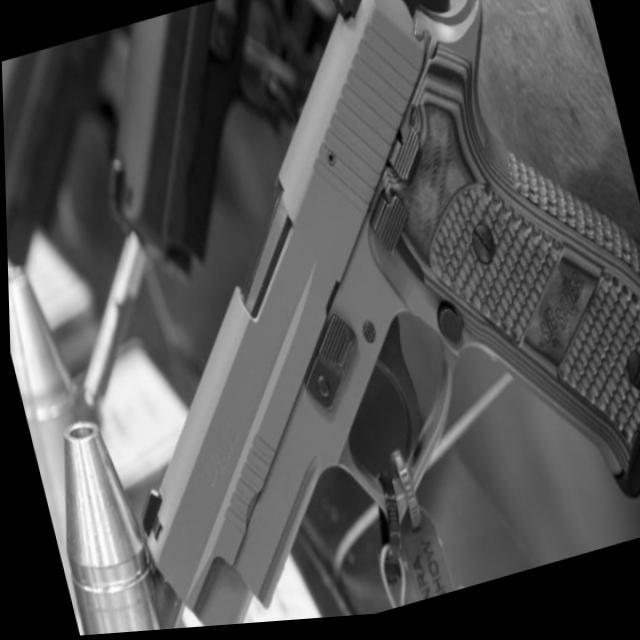weapon: (17, 0, 640, 639)
